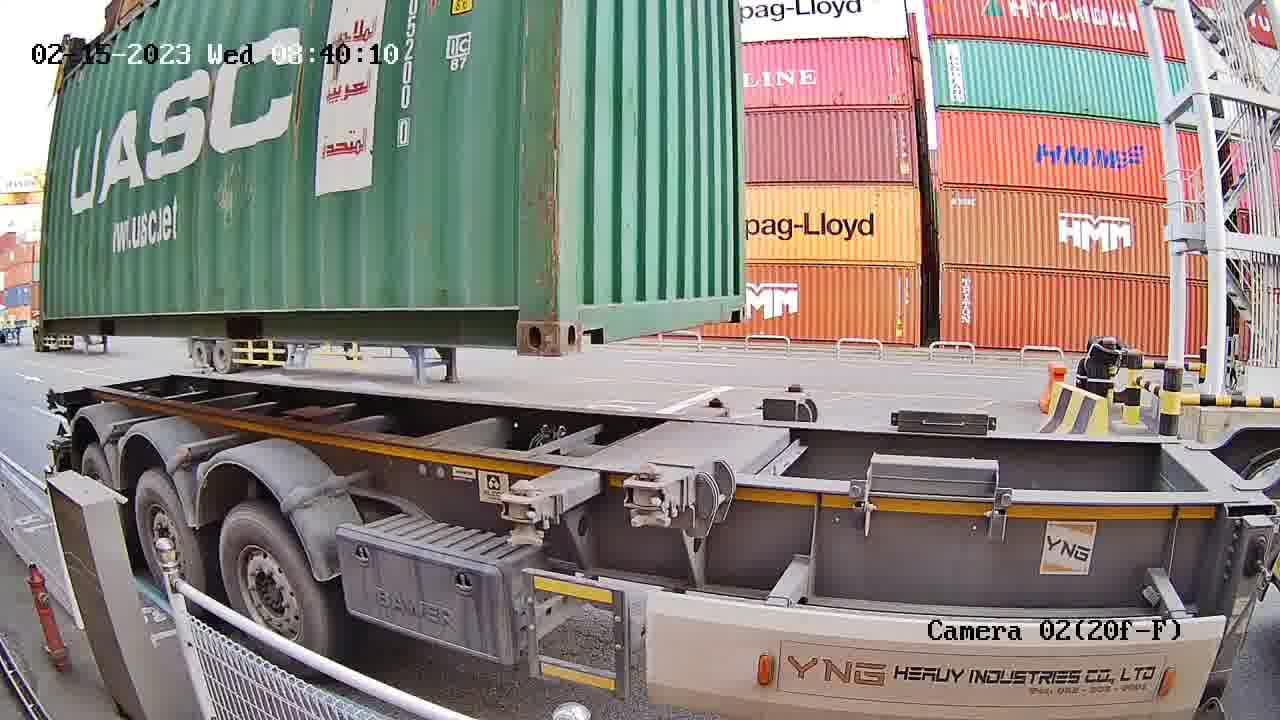Chassis: (527, 401, 733, 519)
Cone: (494, 475, 549, 544)
Hole_L: (557, 274, 618, 355)
Hole_R: (480, 275, 558, 353), (714, 274, 749, 325)
Tire: (219, 507, 329, 645), (136, 474, 204, 587), (82, 446, 114, 490)
